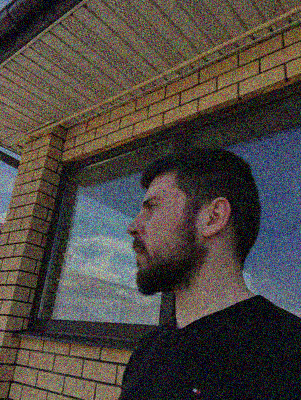without_mask: (126, 186, 185, 295)
